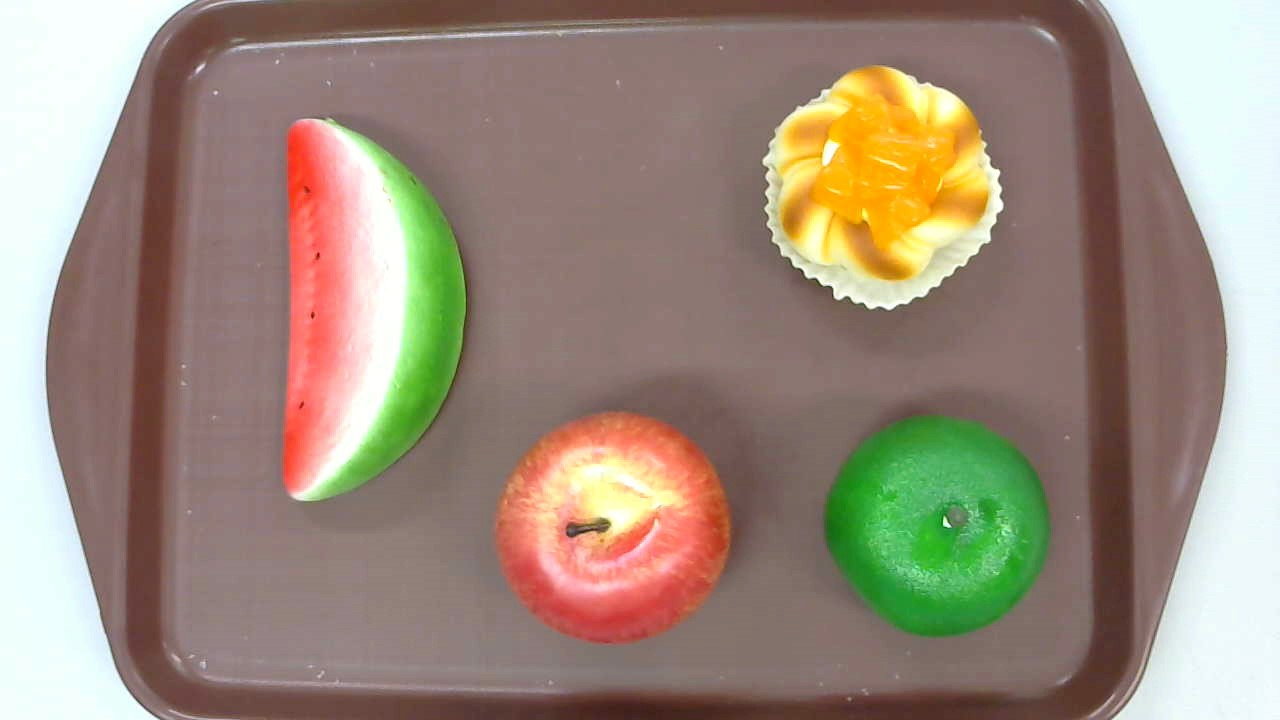green orange: (824, 414, 1050, 637)
mango tart: (761, 66, 1003, 311)
red apple: (495, 410, 733, 647)
water melon: (283, 116, 466, 500)
